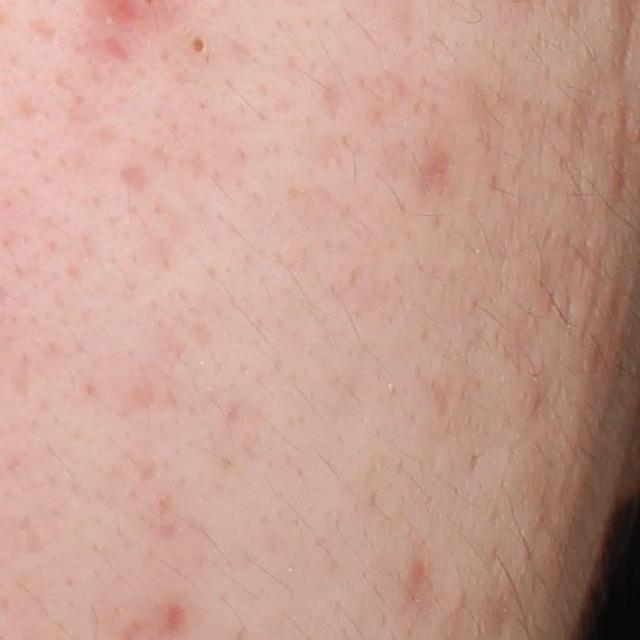atrophic_scar: (11, 354, 33, 400), (29, 16, 63, 45), (101, 35, 130, 62), (119, 165, 147, 191), (325, 80, 343, 118), (137, 459, 165, 483), (162, 604, 184, 633)
comedo: (184, 31, 220, 63)
